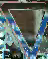Give way: (0, 1, 47, 56)
